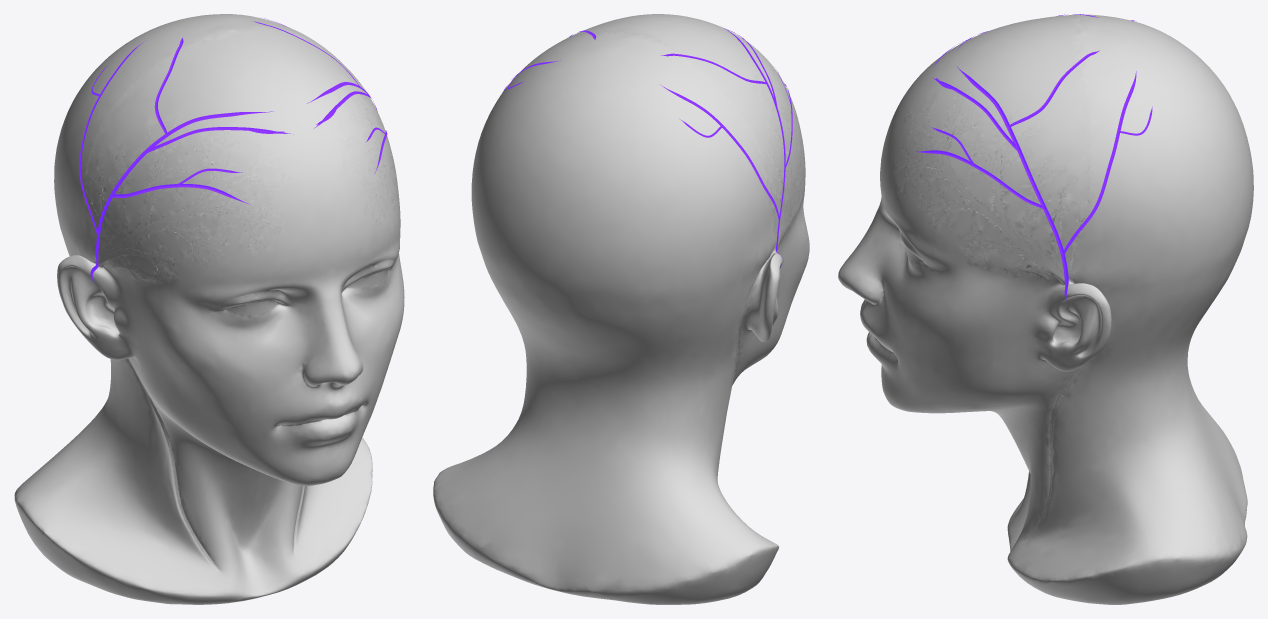
File: cymba-mannequin-engraved-desktop.glb
3 views of the same model, side by side, from view 1: azimuth 30°, elevation 25°; view 2: azimuth 150°, elevation 25°; view 3: azimuth 270°, elevation 25° (orthographic). The views are drawn at different scales.
Visible parts, largest first — view 1: Cymba_Marble_Mannequin, Purple_Surface_Nerve_Fibres; view 2: Cymba_Marble_Mannequin, Purple_Surface_Nerve_Fibres; view 3: Cymba_Marble_Mannequin, Purple_Surface_Nerve_Fibres.
Part boxes in pixels (x1,y1,x2,y2): Cymba_Marble_Mannequin: [14, 14, 404, 604]; Purple_Surface_Nerve_Fibres: [79, 18, 387, 282]; Cymba_Marble_Mannequin: [433, 14, 809, 604]; Purple_Surface_Nerve_Fibres: [502, 28, 792, 266]; Cymba_Marble_Mannequin: [838, 14, 1253, 604]; Purple_Surface_Nerve_Fibres: [915, 14, 1152, 300].
Size of the model in its own units: 2.74 by 4.27 by 3.05.
